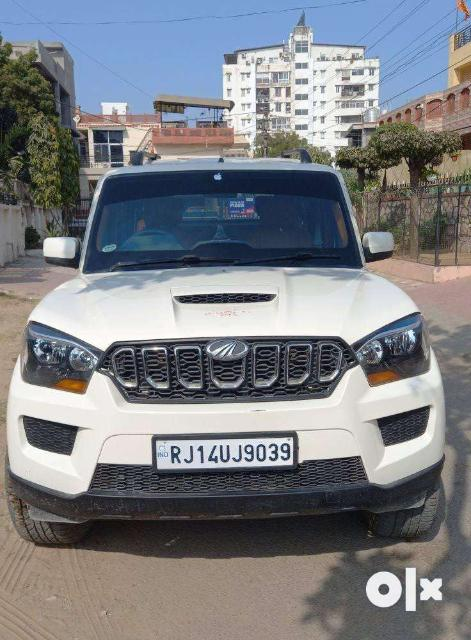Indian_Number_Plate: (151, 435, 297, 473)
